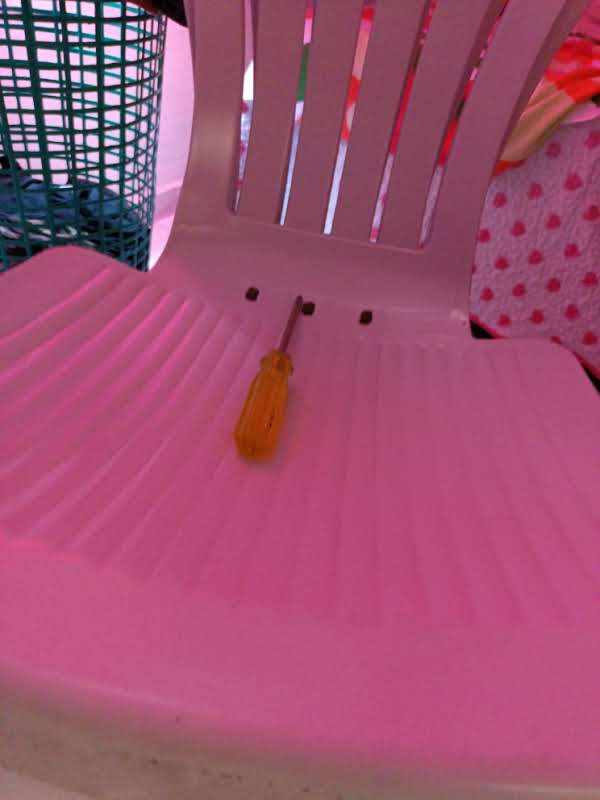Destornillador: (234, 296, 302, 459)
